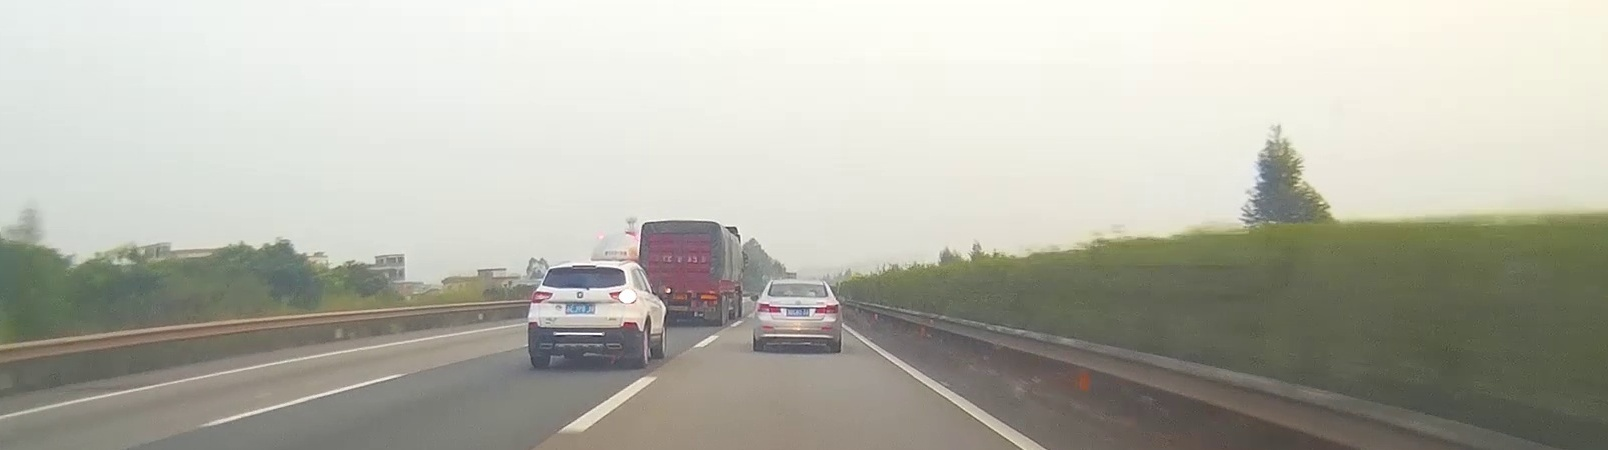L_light: (531, 290, 554, 303), (756, 302, 782, 313)
R_light: (609, 288, 638, 304), (815, 304, 838, 314), (791, 295, 803, 297)
T_light: (572, 265, 596, 269)
day-no: (753, 279, 842, 353)
day-right: (527, 260, 643, 369)
